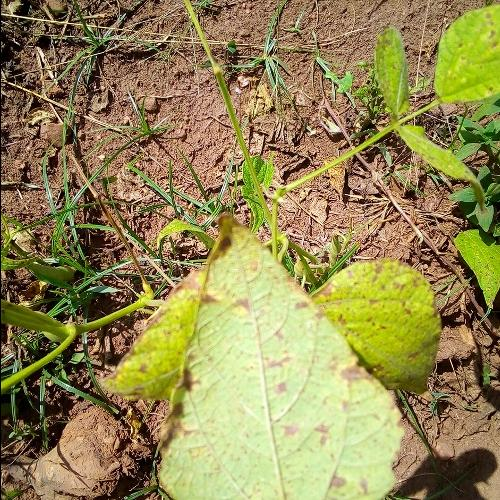hawar: (359, 381, 438, 500), (272, 414, 350, 483), (242, 322, 300, 401), (176, 351, 197, 463), (320, 346, 374, 384), (192, 287, 260, 310)
